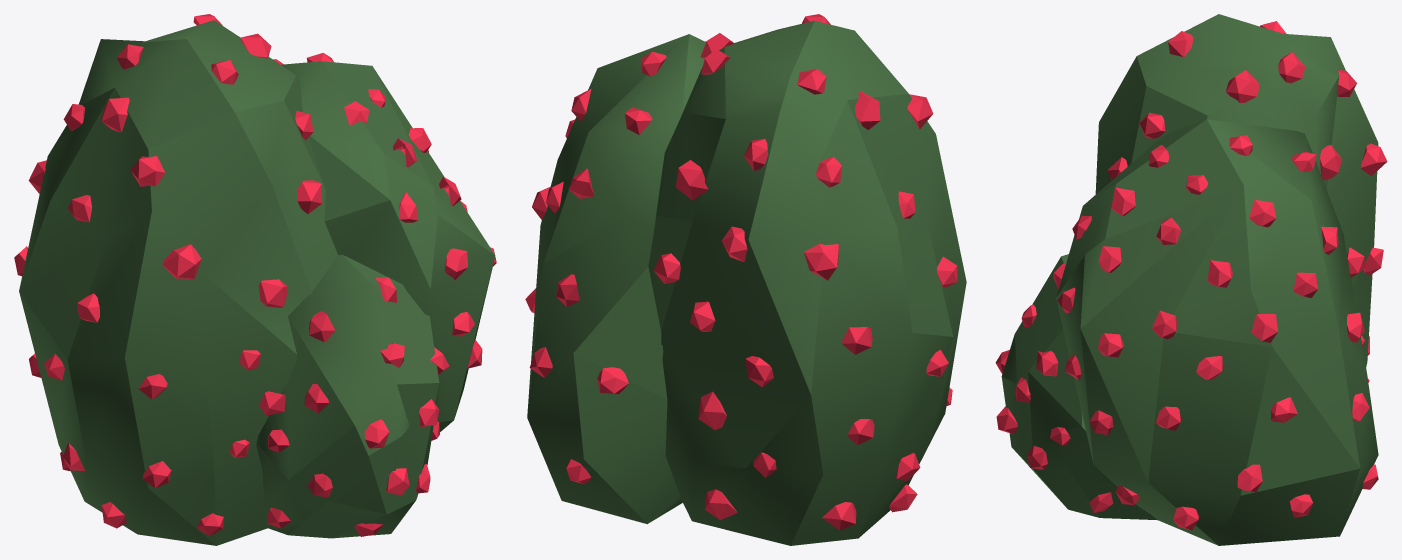
The model's file is Bush_2_WF.fbx.
3 renders of one model, left to right at view 1: azimuth 30°, elevation 25°; view 2: azimuth 150°, elevation 25°; view 3: azimuth 270°, elevation 25°, orthographic. The views are drawn at different scales.
Parts seen in each view (by area): view 1: Bush_2_WF; view 2: Bush_2_WF; view 3: Bush_2_WF.
Part boxes in pixels (<box>): Bush_2_WF: <box>14,14,496,545</box>; Bush_2_WF: <box>525,14,966,545</box>; Bush_2_WF: <box>995,14,1387,545</box>.
Size of the model in its own units: 48.42 by 54.94 by 44.49.
